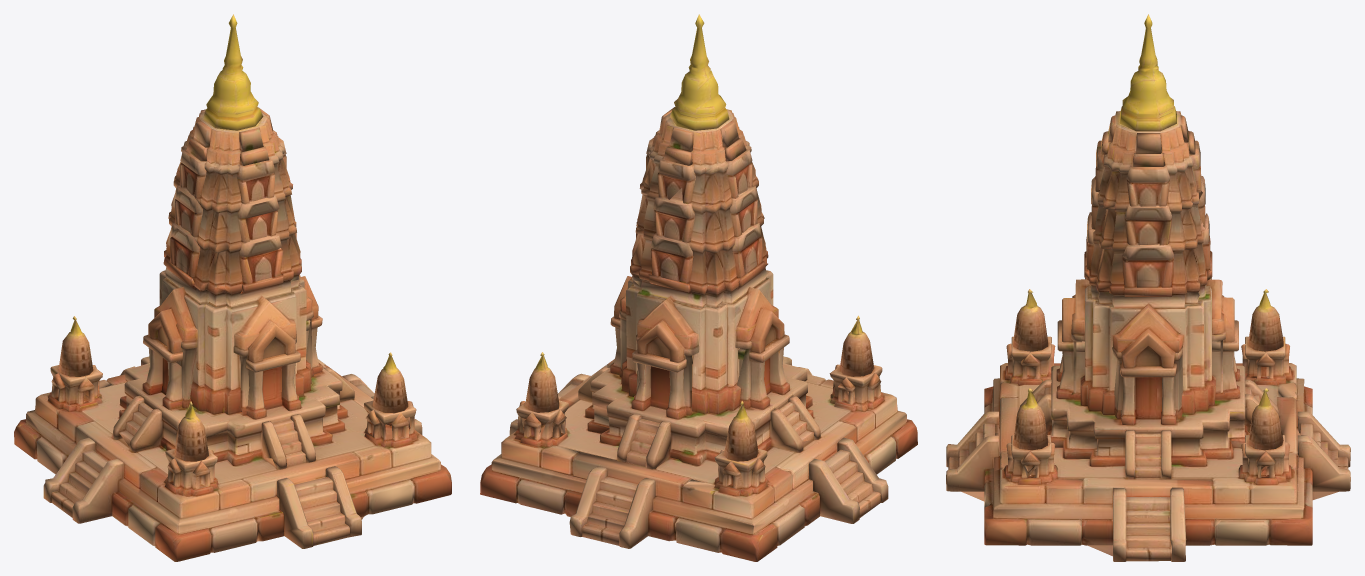
File: prang_big.glb
3 views of the same model, side by side, from view 1: azimuth 30°, elevation 25°; view 2: azimuth 150°, elevation 25°; view 3: azimuth 270°, elevation 25° (orthographic).
Bounding box in the file's own units: 43.5 × 55 × 43.58.
1 material, 1 textured.
